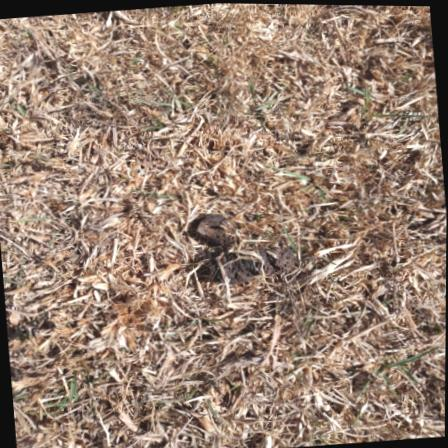dog-poop: (176, 191, 301, 302)
